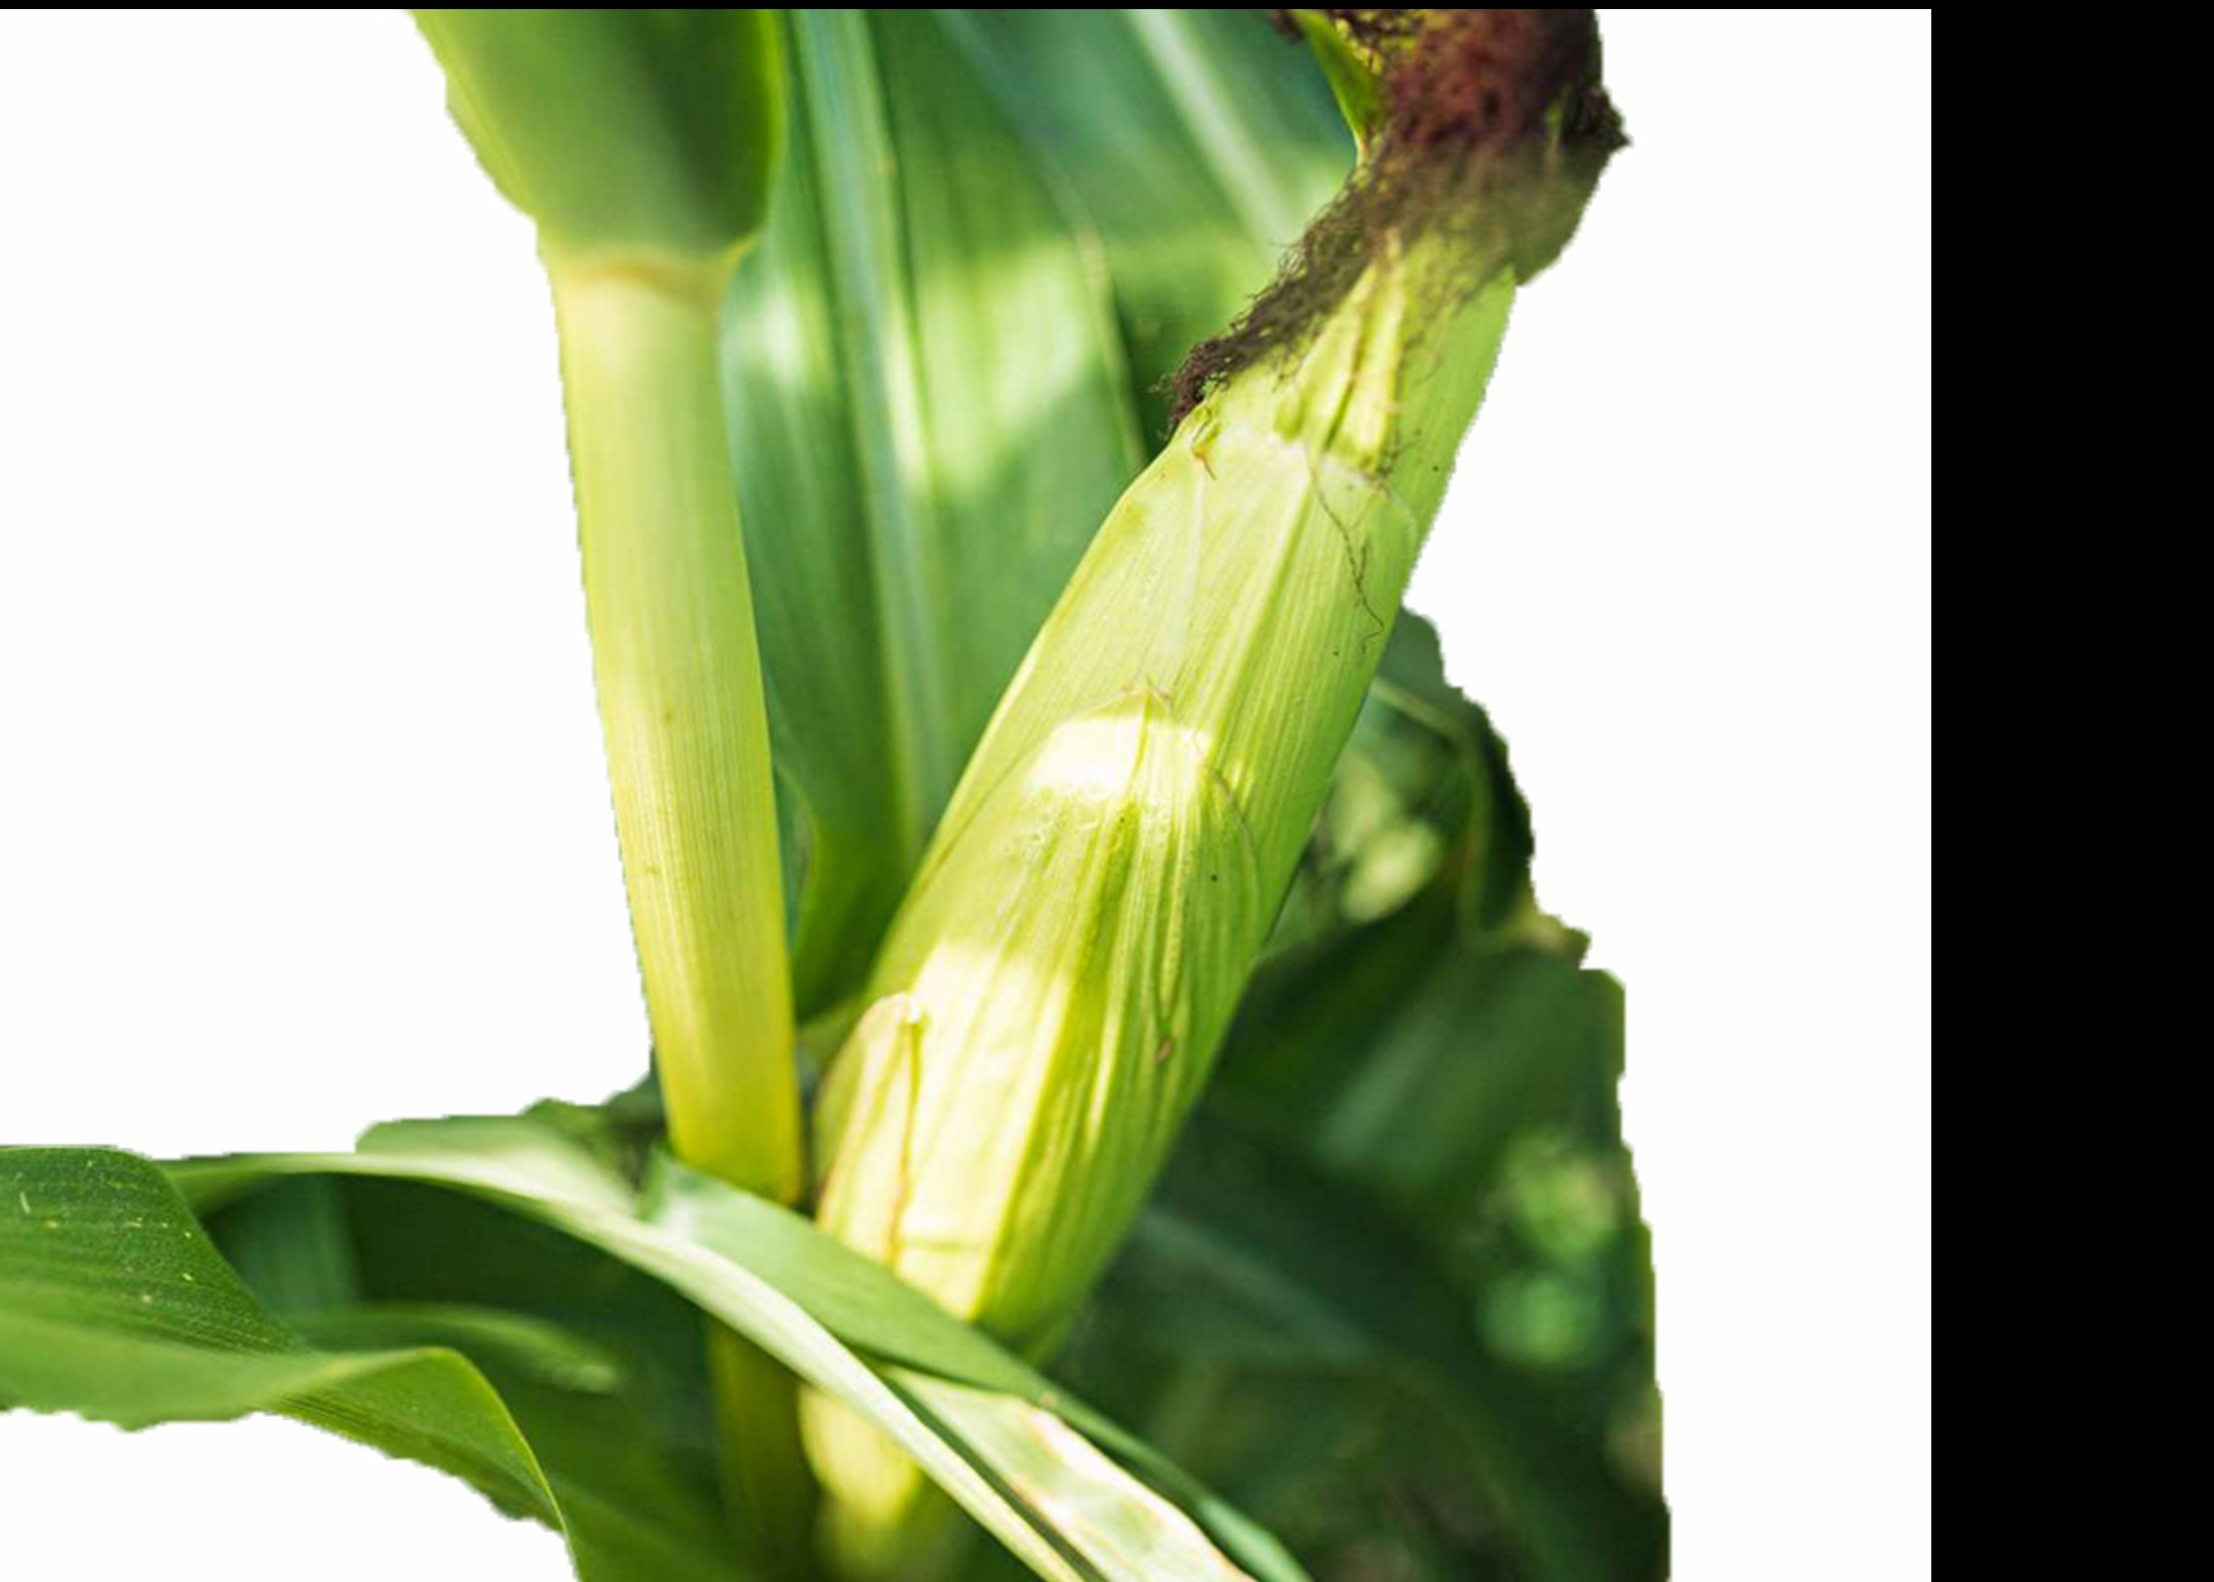corn_plant: (632, 24, 1587, 1558)
